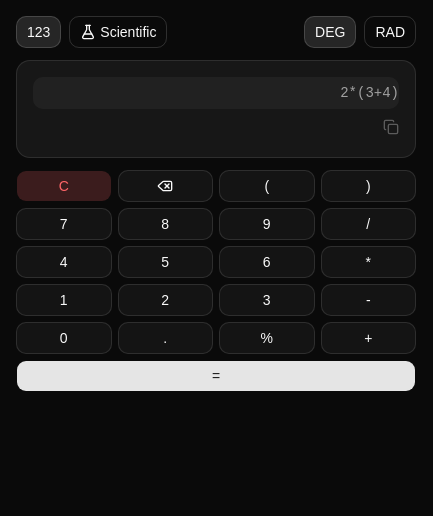
Test: T12 calculator view › shows scientific keys on toggle
Expected: the button "sin(" is not shown
Click the button "Scientific" at [118, 32], box [69, 16, 167, 48]
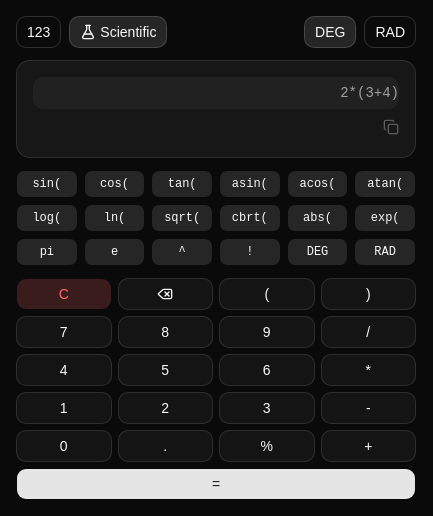
Result: the button "sin(" is shown
Click the button "sin(" at [47, 184], box [16, 170, 78, 198]
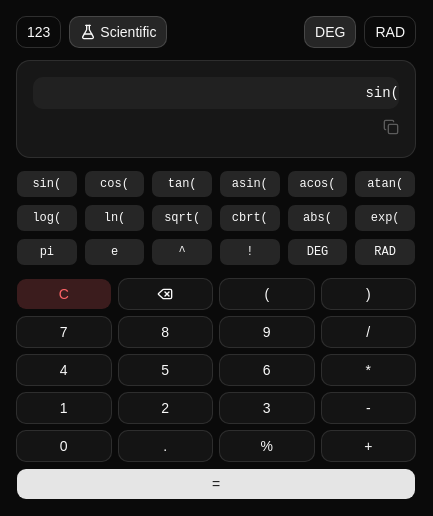
Replace the text in the field named "expression" with "sin(30)" at [216, 93], box [33, 77, 399, 109]
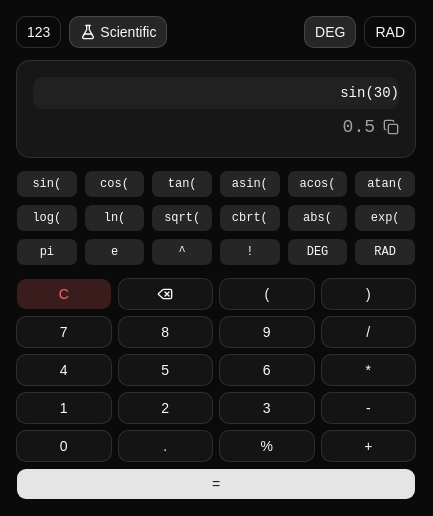
Result: the text with test id "calc-preview" reads "0.5" at [343, 117, 375, 137]
